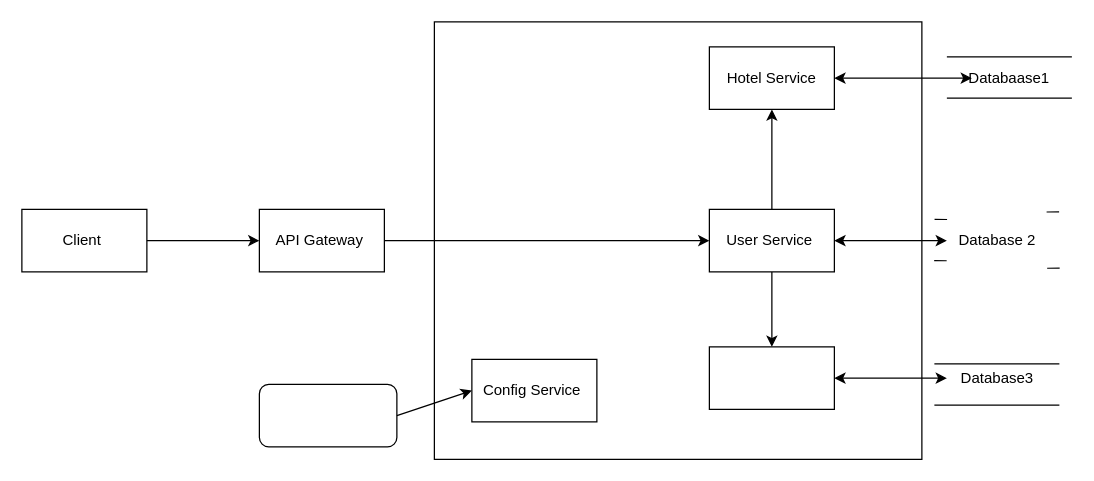
The diagram is 1094 pixels wide and 481 high, and some of its shapes have lost their labels. The shapes that lost their labels are listed below. From the top down, each one's box as (x1, y1, x2, y2) in pixels, then its label:
(708, 346, 834, 409): Rating Service
(258, 383, 397, 447): Github
